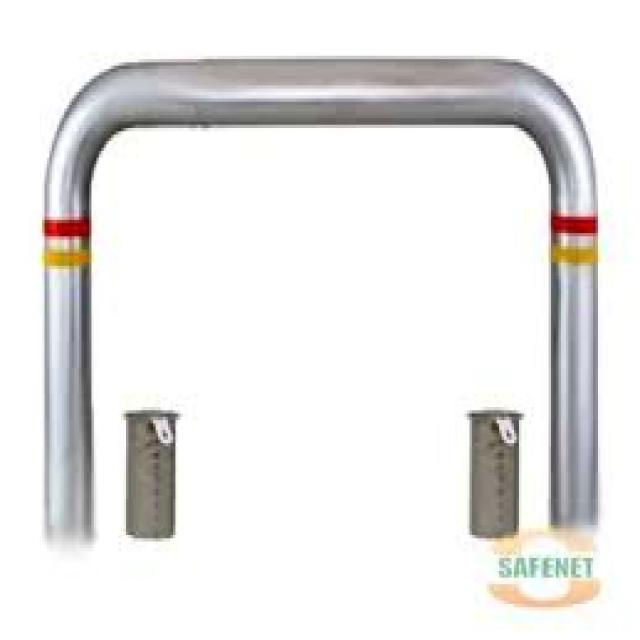bollard: (34, 54, 605, 552)
